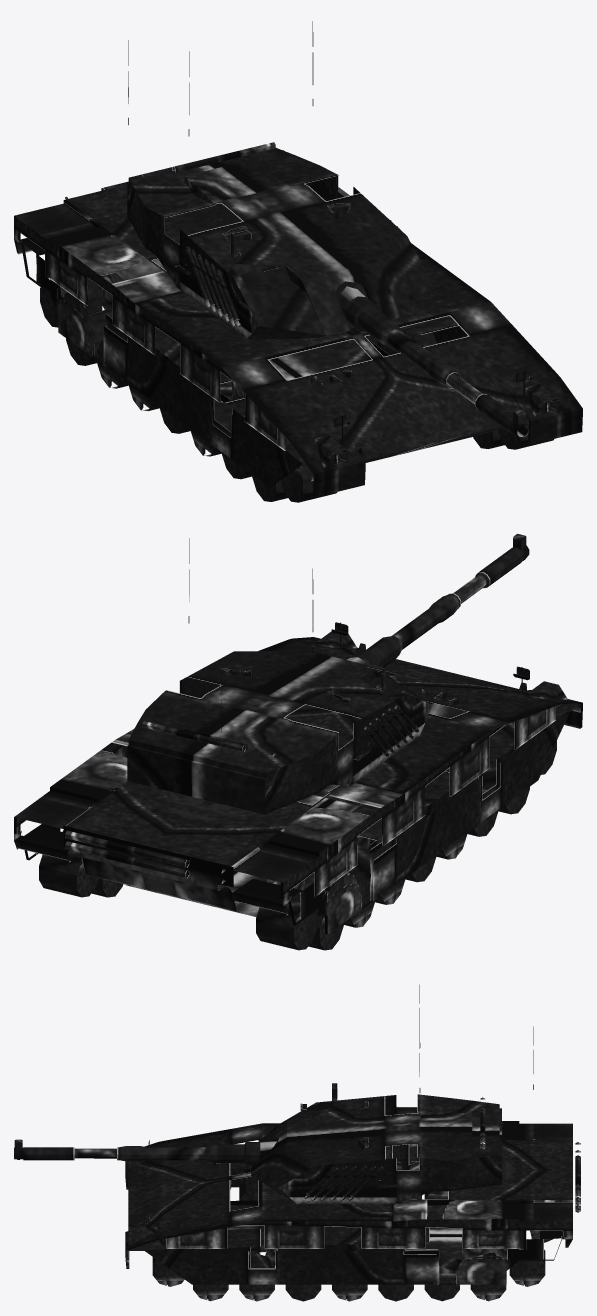
File: Ariete.fbx
3 views of the same model, one above another, from view 1: azimuth 30°, elevation 25°; view 2: azimuth 150°, elevation 25°; view 3: azimuth 270°, elevation 25° (orthographic). The views are drawn at different scales.
Parts seen in each view (by area): view 1: polySurface552, polySurface605, polySurface554, polySurface620, polySurface622, polySurface628, polySurface624; view 2: polySurface552, polySurface605, polySurface554, polySurface622, polySurface82, polySurface626, polySurface627, polySurface629, polySurface628; view 3: polySurface552, polySurface605, polySurface554, polySurface619, polySurface82, polySurface610, polySurface6, polySurface611, polySurface612, polySurface613, polySurface618, polySurface617 (+1 smaller).
Boxes of the visible parts, box(x1,y1,x2,y2) form: polySurface552: box(14, 40, 582, 497); polySurface605: box(127, 21, 431, 339); polySurface554: box(340, 286, 529, 438); polySurface620: box(280, 465, 337, 502); polySurface622: box(40, 278, 102, 327); polySurface628: box(66, 309, 112, 365); polySurface624: box(190, 399, 235, 456); polySurface552: box(14, 622, 582, 934); polySurface605: box(127, 538, 431, 814); polySurface554: box(326, 533, 529, 710); polySurface622: box(256, 897, 317, 950); polySurface82: box(39, 850, 98, 897); polySurface626: box(347, 848, 405, 904); polySurface627: box(478, 760, 529, 814); polySurface629: box(325, 876, 374, 927); polySurface628: box(292, 893, 343, 950); polySurface552: box(125, 1026, 580, 1284); polySurface605: box(250, 984, 501, 1203); polySurface554: box(14, 1139, 276, 1165); polySurface619: box(424, 1253, 459, 1301); polySurface82: box(509, 1249, 545, 1286); polySurface610: box(239, 1253, 274, 1301); polySurface6: box(152, 1257, 184, 1286); polySurface611: box(285, 1284, 321, 1301); polySurface612: box(332, 1284, 367, 1301); polySurface613: box(378, 1284, 413, 1301); polySurface618: box(470, 1254, 506, 1301); polySurface617: box(193, 1284, 228, 1301).
Bounding box in the file's own units: 15.82 × 18.65 × 38.09.
